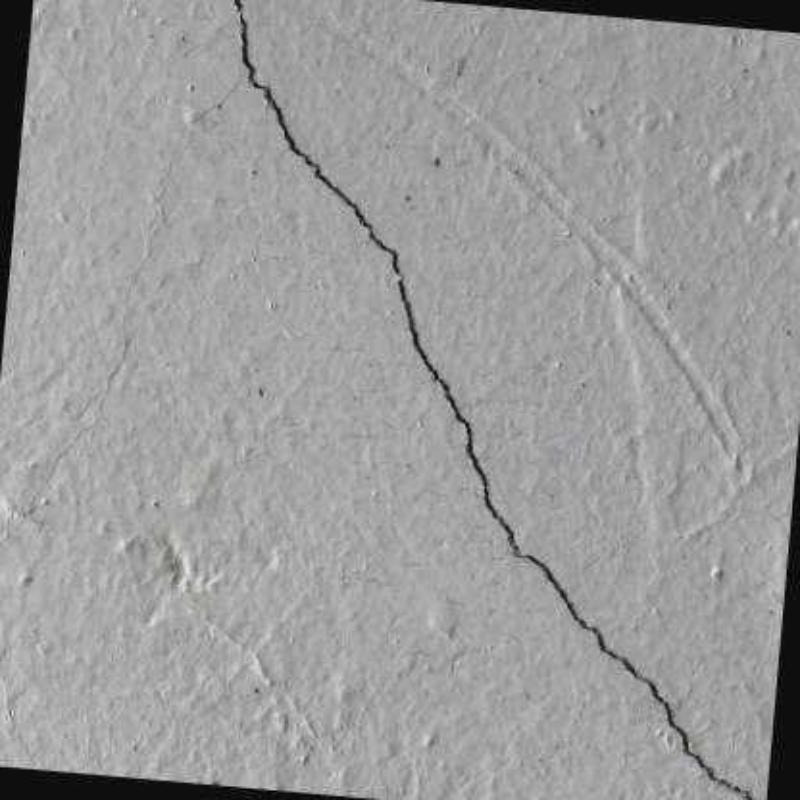pothole: (233, 0, 760, 800)
